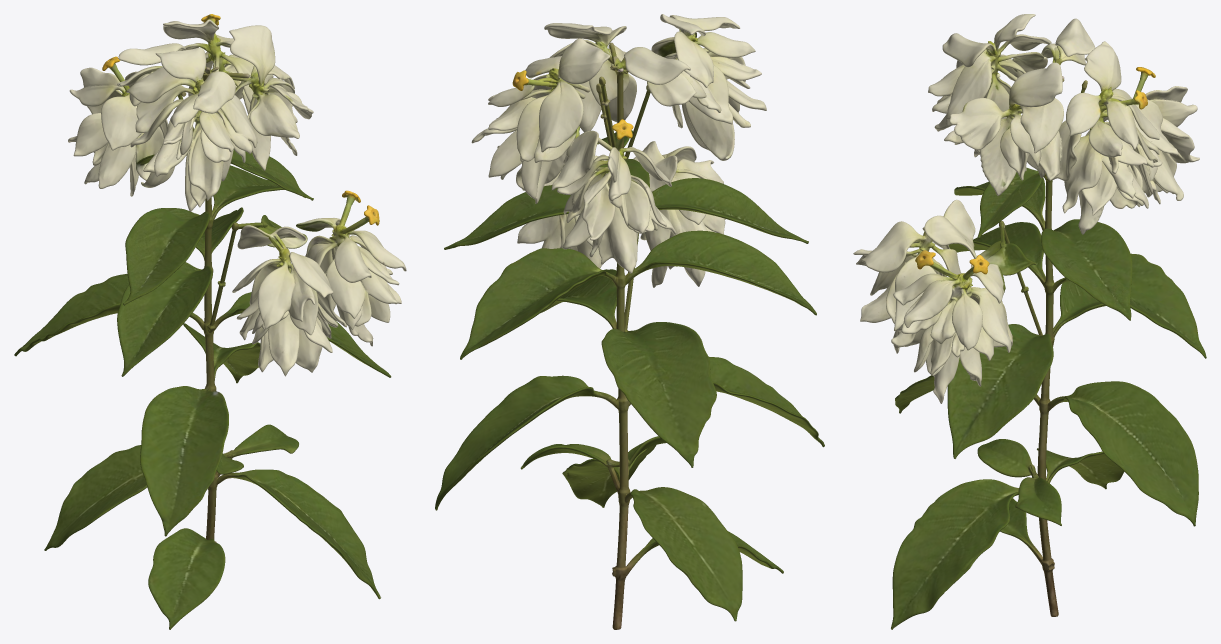
File: planta_blanca.fbx
3 views of the same model, side by side, from view 1: azimuth 30°, elevation 25°; view 2: azimuth 150°, elevation 25°; view 3: azimuth 270°, elevation 25° (orthographic). The views are drawn at different scales.
Visible parts, largest first — view 1: tripo_node_c7fc0e96; view 2: tripo_node_c7fc0e96; view 3: tripo_node_c7fc0e96.
Part boxes in pixels (box(x1,y1,x2,y2)): tripo_node_c7fc0e96: box(14, 14, 406, 629); tripo_node_c7fc0e96: box(435, 14, 824, 629); tripo_node_c7fc0e96: box(853, 14, 1206, 629).
Size of the model in its own units: 49.96 by 98.4 by 54.72.
Materials: 1 (1 with a texture image).
